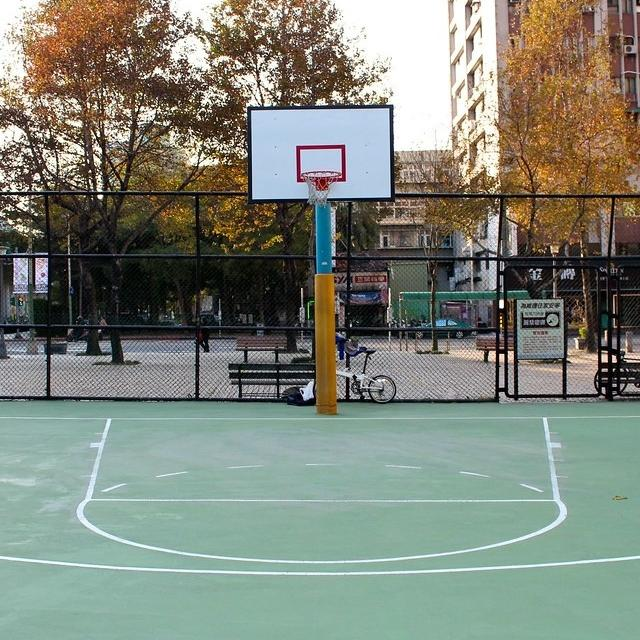hoop: (303, 170, 339, 210)
